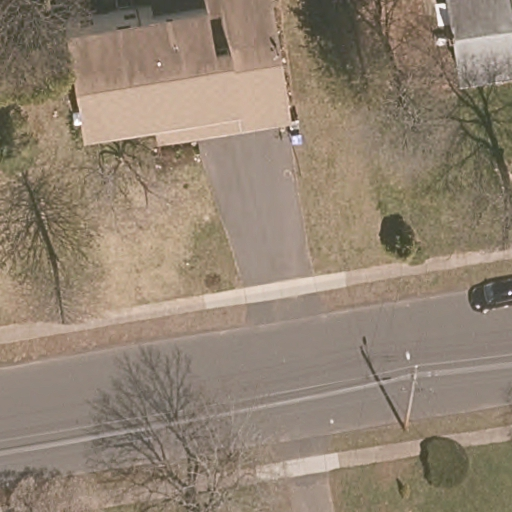DT: (400, 364, 428, 430)
